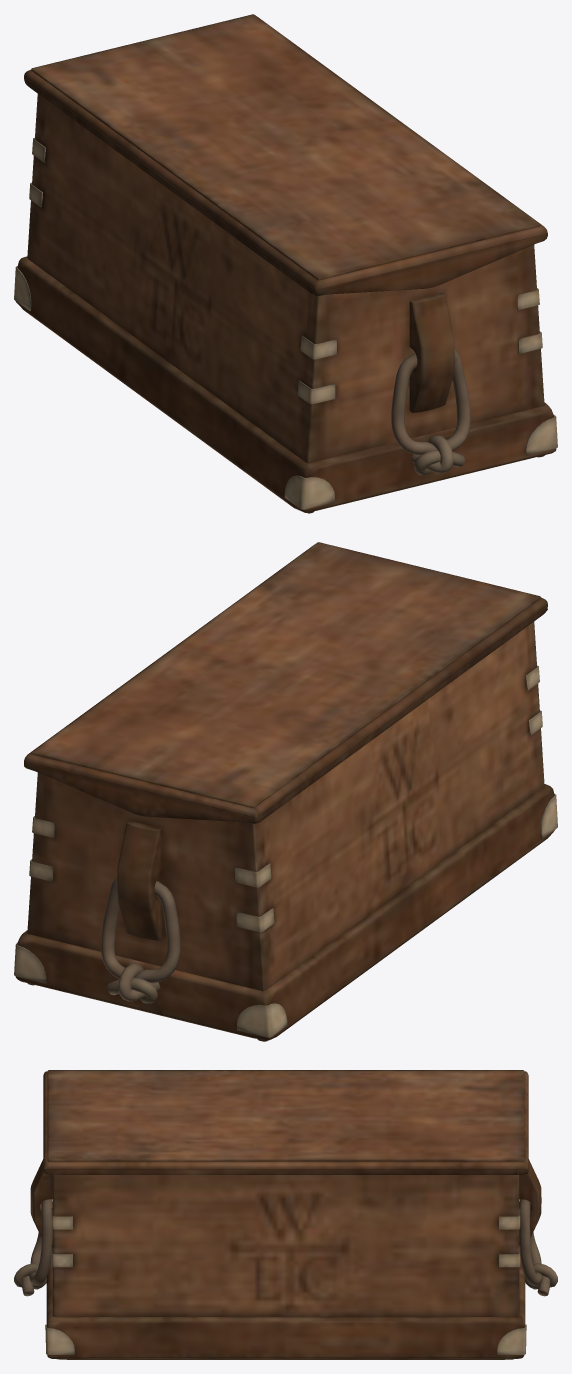
File: wooden-crate-02.glb
3 renders of one model, top to bottom at view 1: azimuth 30°, elevation 25°; view 2: azimuth 150°, elevation 25°; view 3: azimuth 270°, elevation 25°, orthographic. The views are drawn at different scales.
Visible parts, largest first — view 1: wooden_crate_02_crate, wooden_crate_02_lid; view 2: wooden_crate_02_crate, wooden_crate_02_lid; view 3: wooden_crate_02_crate, wooden_crate_02_lid.
Part boxes in pixels (x1,y1,x2,y2): wooden_crate_02_crate: (14,94,557,513); wooden_crate_02_lid: (24,14,547,296); wooden_crate_02_crate: (14,621,557,1041); wooden_crate_02_lid: (24,542,547,823); wooden_crate_02_crate: (14,1159,557,1359); wooden_crate_02_lid: (43,1070,528,1174).
Size of the model in its own units: 0.5293 by 0.4639 by 1.17.
Materials: 1 (1 with a texture image).
